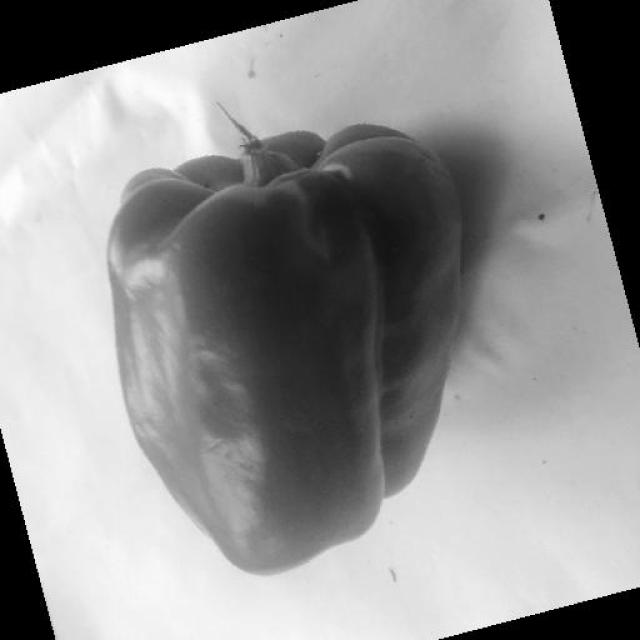Fresh_Capsicum: (90, 150, 454, 597)
